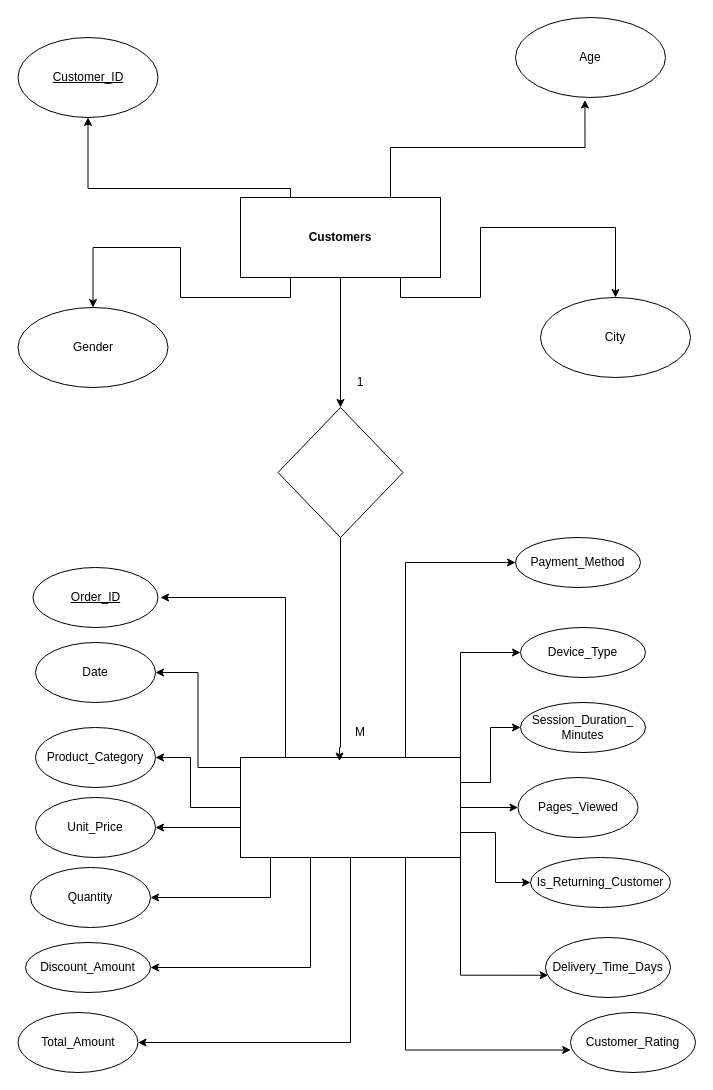
The diagram is 713 pixels wide and 1090 high, and some of its shapes have lost their labels. The box of each missing label's shape, as (x1, y1, x2, y2) in pixels:
Orders: (240, 756, 460, 858)
Places: (277, 406, 403, 538)
